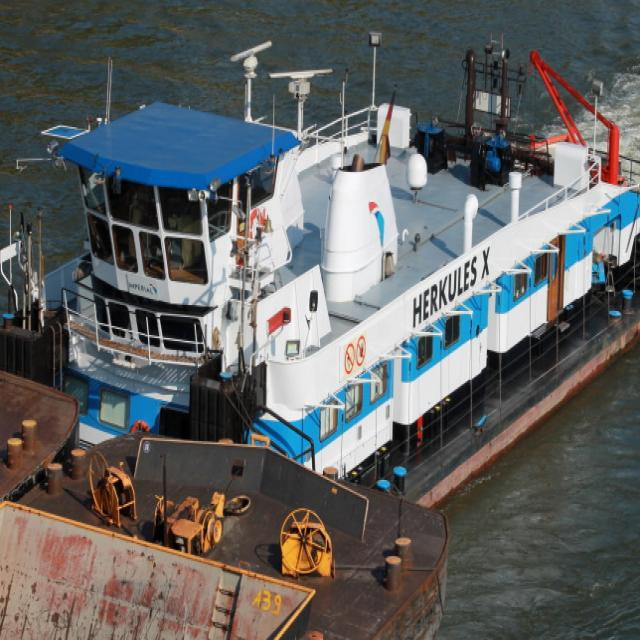tugboat: (1, 23, 640, 547)
